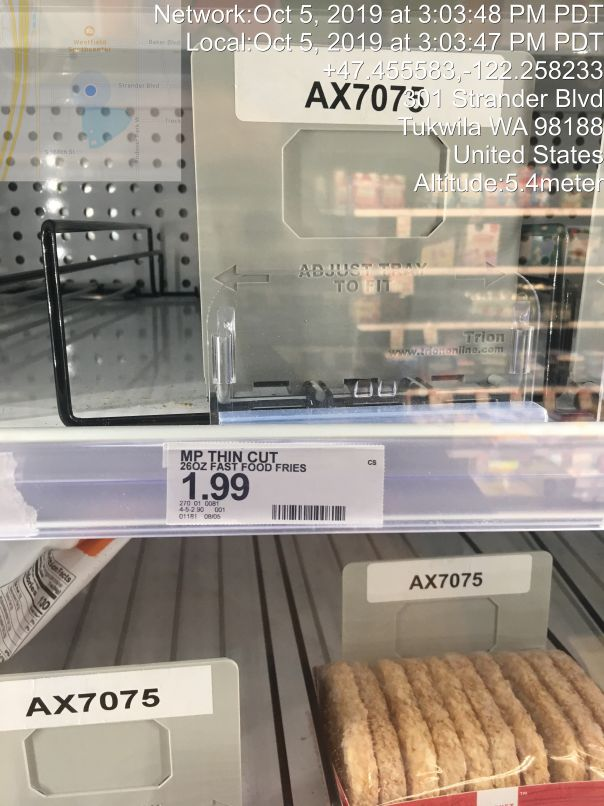Label: (158, 440, 388, 542)
Location: (389, 84, 603, 176)
Mp Thin Cut: (321, 580, 601, 806)
Time: (151, 2, 604, 57)
